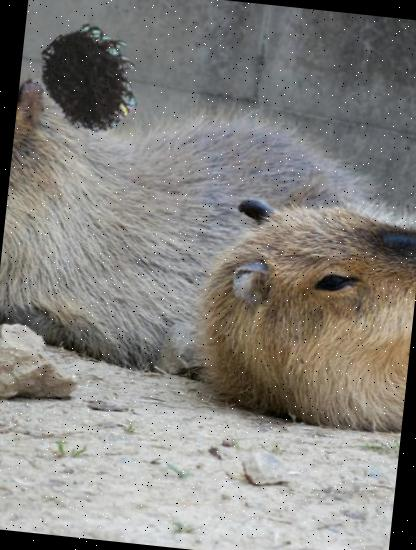Rambutan: (33, 20, 147, 134)
